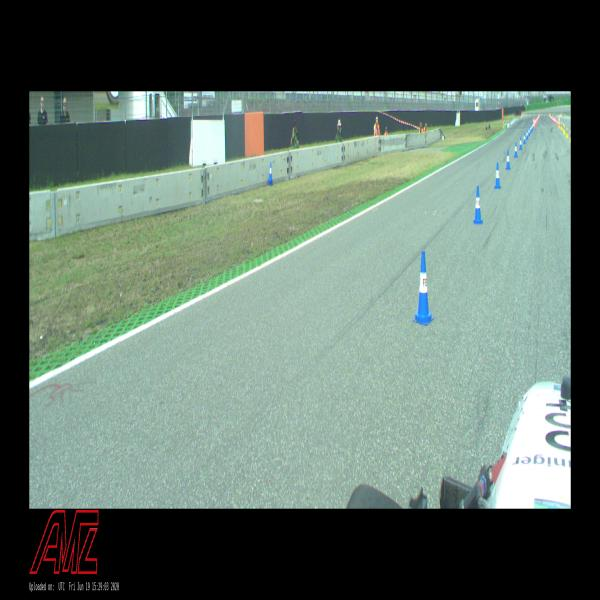blue_cone: (412, 250, 433, 326), (473, 186, 483, 224), (494, 162, 501, 188), (506, 150, 510, 170), (514, 142, 518, 158), (519, 136, 523, 150), (523, 133, 526, 144), (526, 130, 528, 140), (528, 127, 530, 136), (530, 126, 532, 134)
yellow_cone: (563, 126, 566, 134), (569, 131, 571, 142), (566, 127, 568, 138), (562, 123, 564, 132), (560, 122, 562, 130)
